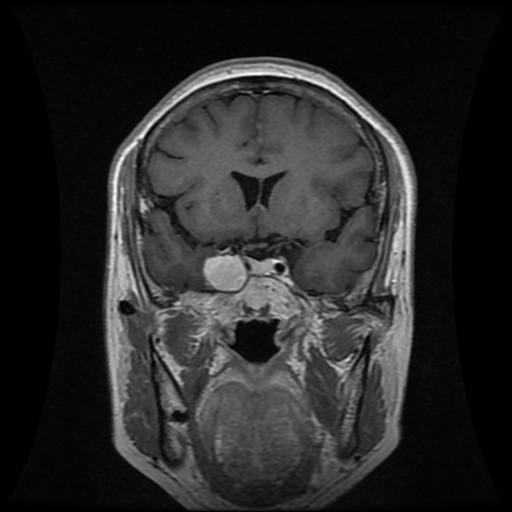meningioma: (201, 254, 247, 291)
